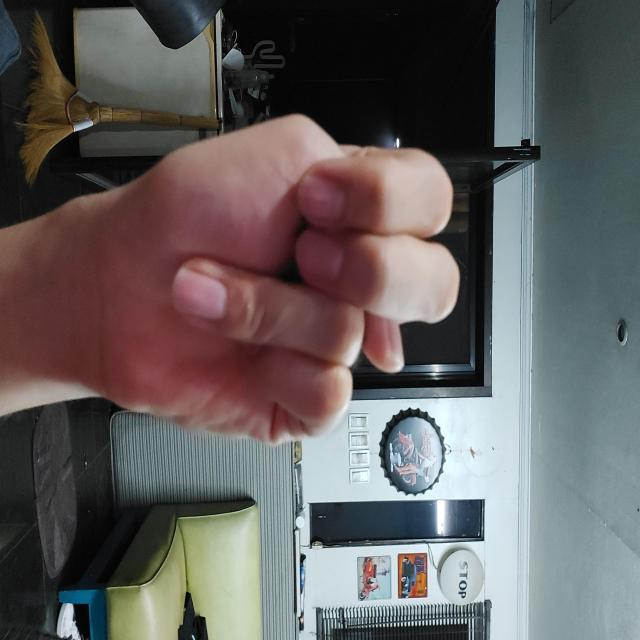N: (112, 179, 446, 546)
